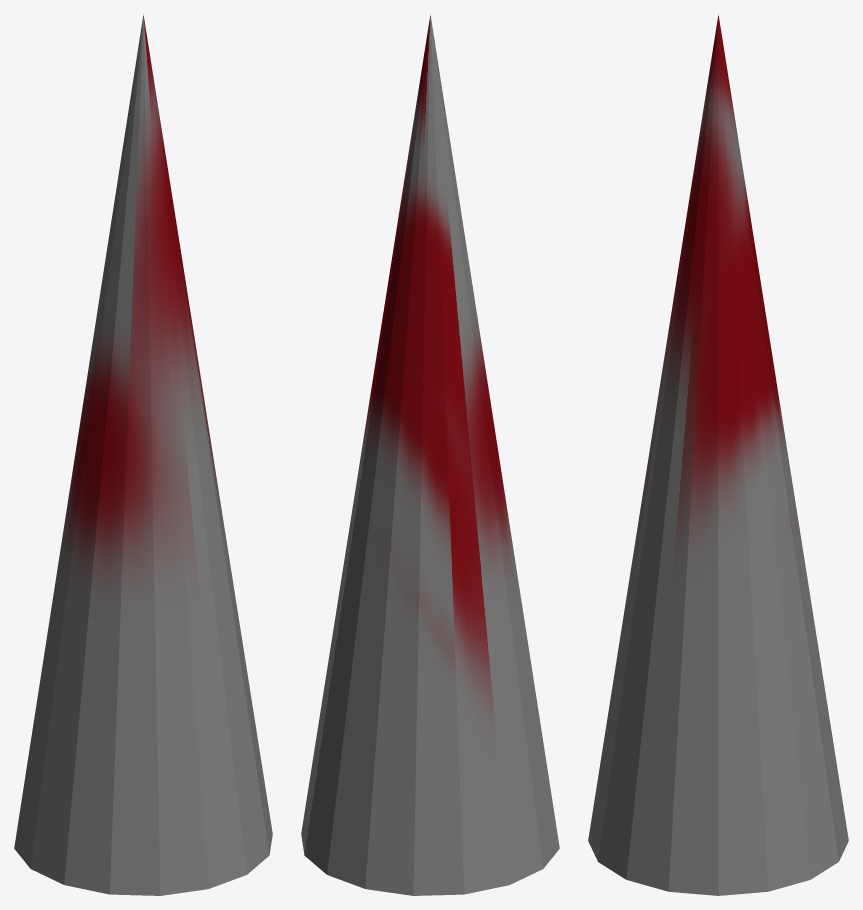
Rendered from SingleSpike.fbx.
3 renders of one model, left to right at view 1: azimuth 30°, elevation 25°; view 2: azimuth 150°, elevation 25°; view 3: azimuth 270°, elevation 25°, orthographic.
Parts seen in each view (by area): view 1: Cone; view 2: Cone; view 3: Cone.
Part boxes in pixels (x1,y1,x2,y2): Cone: [14, 14, 272, 895]; Cone: [301, 14, 559, 895]; Cone: [588, 14, 848, 895].
Size of the model in its own units: 200 by 57.16 by 57.16.
